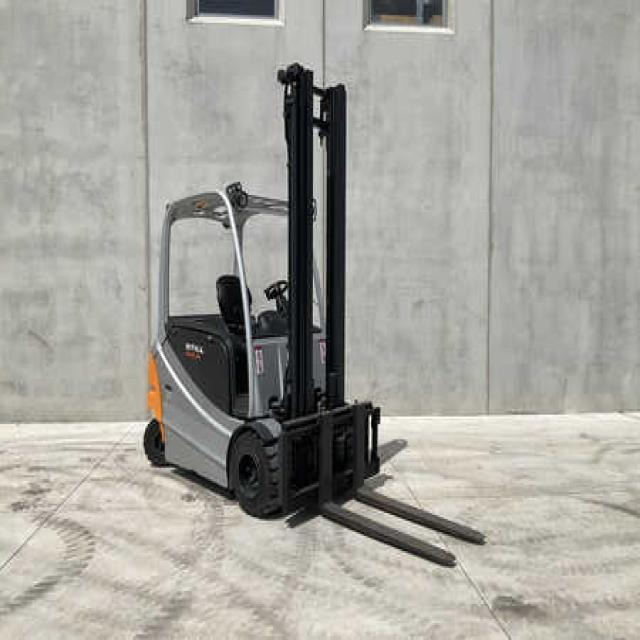forklift: (130, 49, 396, 556)
